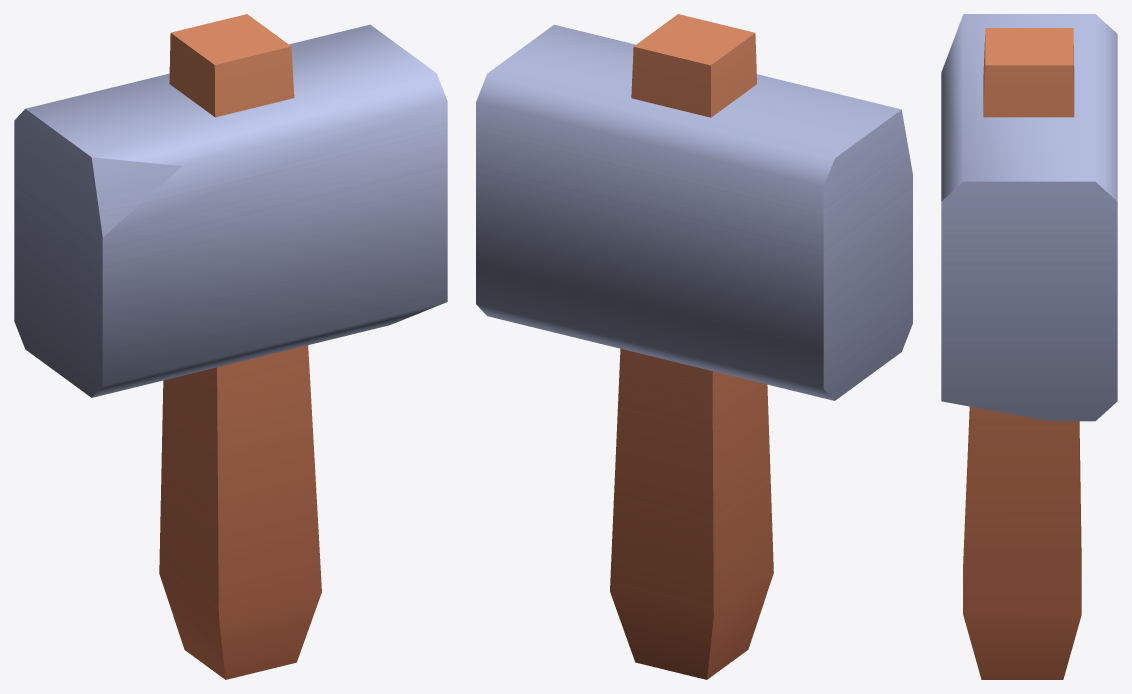
Rendered from cc0-tool-hammer-lod0.glb.
3 views of the same model, side by side, from view 1: azimuth 30°, elevation 25°; view 2: azimuth 150°, elevation 25°; view 3: azimuth 270°, elevation 25° (orthographic).
Parts seen in each view (by area): view 1: part_0; view 2: part_0; view 3: part_0.
Part boxes in pixels (x1,y1,x2,y2): part_0: (14, 14, 447, 679); part_0: (476, 14, 912, 679); part_0: (941, 14, 1117, 679).
Size of the model in its own units: 0.09 by 0.1535 by 0.04.
Materials: 1 (1 with a texture image).
